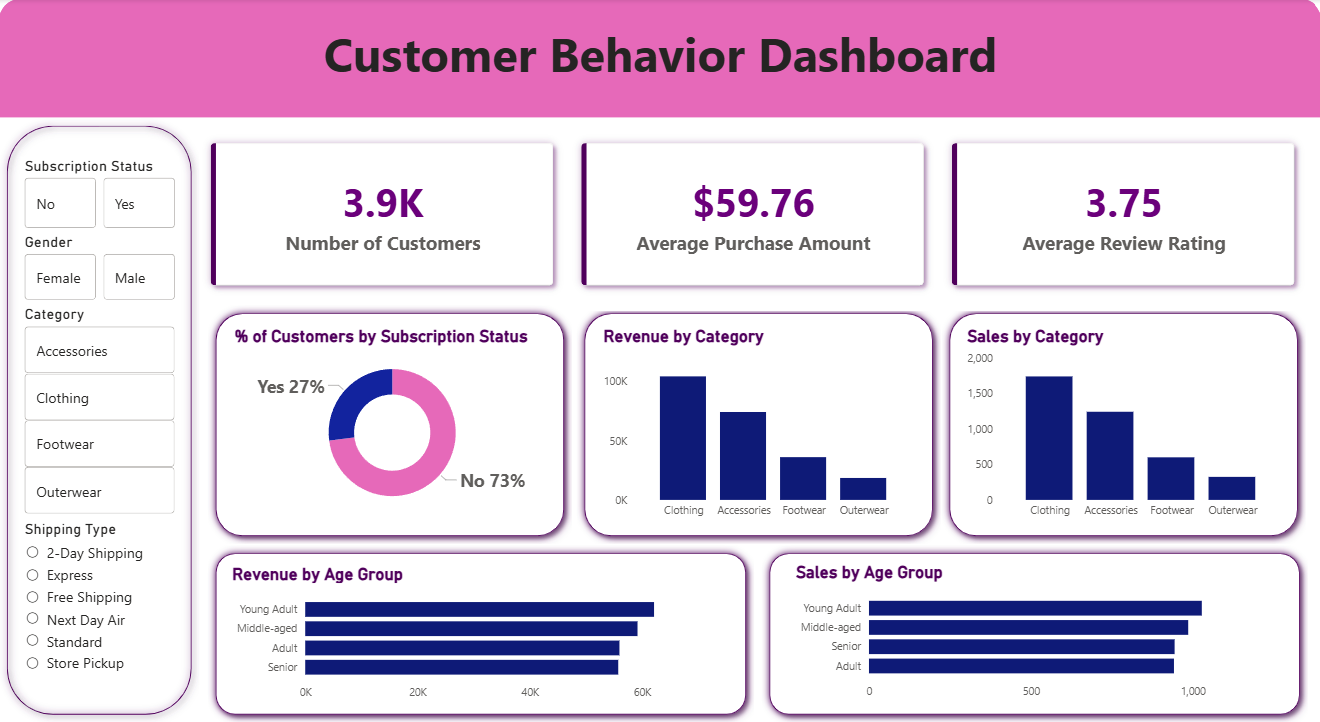

Layout of this report page (visuals, bound fields, positions):
{"tool":"powerbi","page":{"name":"Page 1","canvas":[1500,820],"ordinal":0},"visuals":[{"type":"shape","box":[653.9,347.7,412.9,270.7],"z":0},{"type":"shape","box":[236.4,619.1,619.1,201],"z":1000},{"type":"shape","box":[1068.9,347.7,412.9,270.7],"z":2000},{"type":"actionButton","box":[0,0,100,40],"z":3000},{"type":"cardVisual","fields":{"Data":["public customer.Number of Customers","public customer.Average Purchase Amount","public customer.Average Review Rating"]},"box":[211.4,134.4,1288.2,219.3],"z":4000},{"type":"shape","box":[0,0,1499.6,134.4],"z":5000},{"type":"textbox","box":[0,19.8,1499.6,134.4],"z":6000},{"type":"shape","box":[237,347.7,412.9,270.7],"z":7000},{"type":"donutChart","title":"% of Customers by Subscription Status","fields":{"Y":["public customer.Number of Customers"],"Category":["public customer.subscription_status"]},"box":[262.7,371.4,367.5,219.3],"z":8000},{"type":"clusteredColumnChart","title":"Revenue by Category","fields":{"Y":["Sum(public customer.purchase_amount)"],"Category":["public customer.category"]},"box":[680.2,371.5,360.2,226.7],"z":9000},{"type":"clusteredColumnChart","title":"Sales by Category","fields":{"Y":["CountNonNull(public customer.customer_id)"],"Category":["public customer.category"]},"box":[1091.9,371.5,366.6,226.7],"z":10000},{"type":"shape","box":[0,134.4,227.2,685.6],"z":11000},{"type":"advancedSlicerVisual","title":"Subscription Status","fields":{"Values":["public customer.subscription_status"]},"box":[24.1,178.5,180.1,86.8],"z":12000},{"type":"advancedSlicerVisual","title":"Gender","fields":{"Values":["public customer.gender"]},"box":[24.1,265.3,180.1,82],"z":13000},{"type":"advancedSlicerVisual","title":"Category","fields":{"Values":["public customer.category"]},"box":[24.1,347.3,180.1,242.8],"z":14000},{"type":"listSlicer","title":"Shipping Type","fields":{"Values":["public customer.shipping_type"]},"box":[24.1,590.2,165.6,230],"z":15000},{"type":"clusteredBarChart","title":"Revenue by Age Group","fields":{"Category":["public customer.age_group"],"Y":["Sum(public customer.purchase_amount)"]},"box":[258.9,640,548.4,164],"z":16000},{"type":"shape","box":[863.5,619.1,619.1,201],"z":17000},{"type":"clusteredBarChart","title":"Sales by Age Group","fields":{"Category":["public customer.age_group"],"Y":["CountNonNull(public customer.customer_id)"]},"box":[898.9,638.4,548.4,164],"z":18000}]}

Visuals, with their boxes in screenshot pixels (x1, y1, x2, y2), scaled from the page's 1500x820 canvas onto the 1320x722 screenshot:
shape: locate(575, 306, 939, 544)
shape: locate(208, 545, 753, 721)
shape: locate(941, 306, 1304, 544)
actionButton: locate(0, 0, 88, 35)
cardVisual - public customer.Number of Customers x public customer.Average Purchase Amount: locate(186, 118, 1319, 311)
shape: locate(0, 0, 1319, 118)
textbox: locate(0, 17, 1319, 136)
shape: locate(209, 306, 572, 544)
"% of Customers by Subscription Status" donutChart: locate(231, 327, 555, 520)
"Revenue by Category" clusteredColumnChart: locate(599, 327, 916, 527)
"Sales by Category" clusteredColumnChart: locate(961, 327, 1283, 527)
shape: locate(0, 118, 200, 721)
"Subscription Status" advancedSlicerVisual: locate(21, 157, 180, 234)
"Gender" advancedSlicerVisual: locate(21, 234, 180, 306)
"Category" advancedSlicerVisual: locate(21, 306, 180, 520)
"Shipping Type" listSlicer: locate(21, 520, 167, 721)
"Revenue by Age Group" clusteredBarChart: locate(228, 564, 710, 708)
shape: locate(760, 545, 1305, 721)
"Sales by Age Group" clusteredBarChart: locate(791, 562, 1274, 707)
